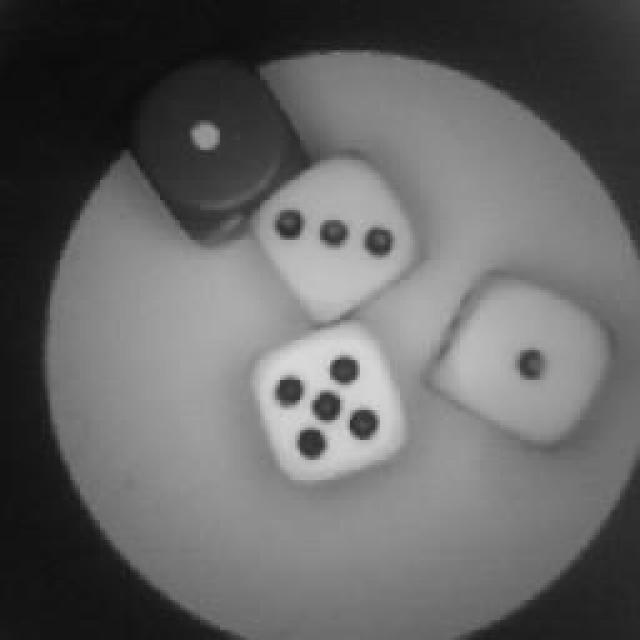dice_1: (435, 270, 620, 448), (132, 58, 300, 232)
dice_3: (268, 155, 408, 315)
dice_5: (252, 322, 408, 480)
